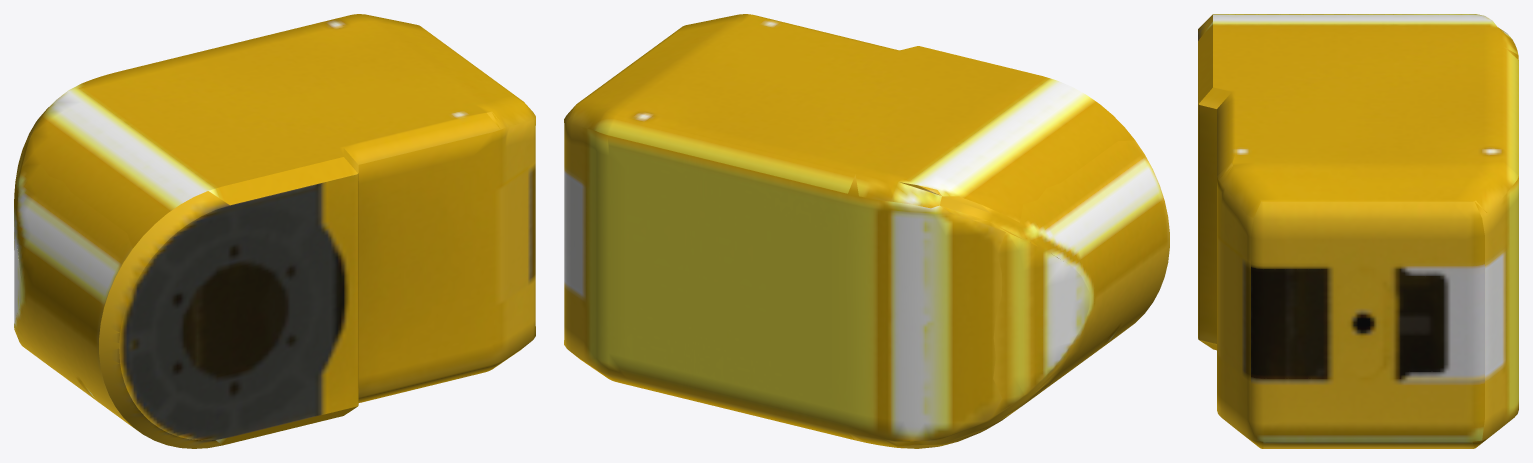
File: palm.dae
The picture shows the model from 3 angles, left to right: view 1: azimuth 30°, elevation 25°; view 2: azimuth 150°, elevation 25°; view 3: azimuth 270°, elevation 25°; orthographic projection. The views are drawn at different scales.
Parts seen in each view (by area): view 1: simple_mesh_hand; view 2: simple_mesh_hand; view 3: simple_mesh_hand.
Part boxes in pixels (x1,y1,x2,y2): simple_mesh_hand: (14,14,535,448); simple_mesh_hand: (564,14,1169,448); simple_mesh_hand: (1198,14,1518,448).
Size of the model in its own units: 143 by 85.4 by 77.
1 material, 1 textured.
